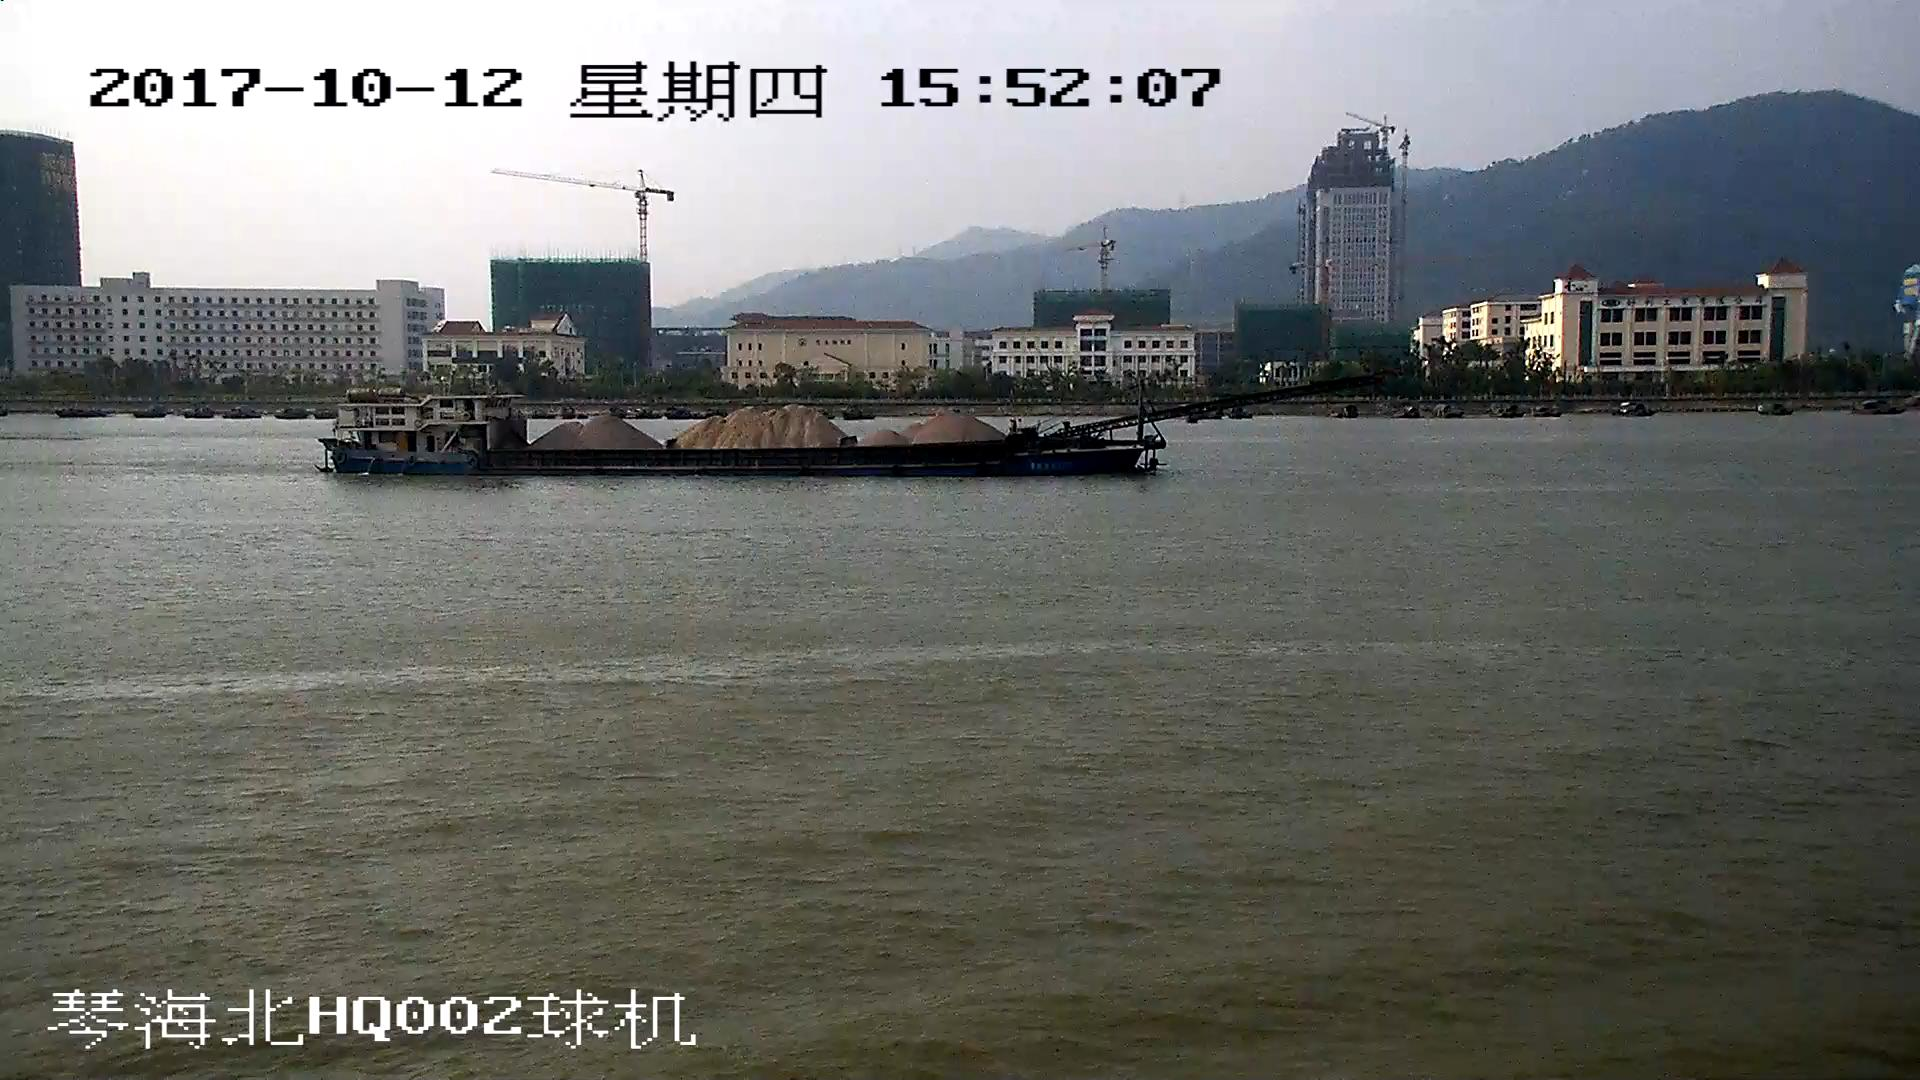ore carrier: (325, 371, 1370, 475)
